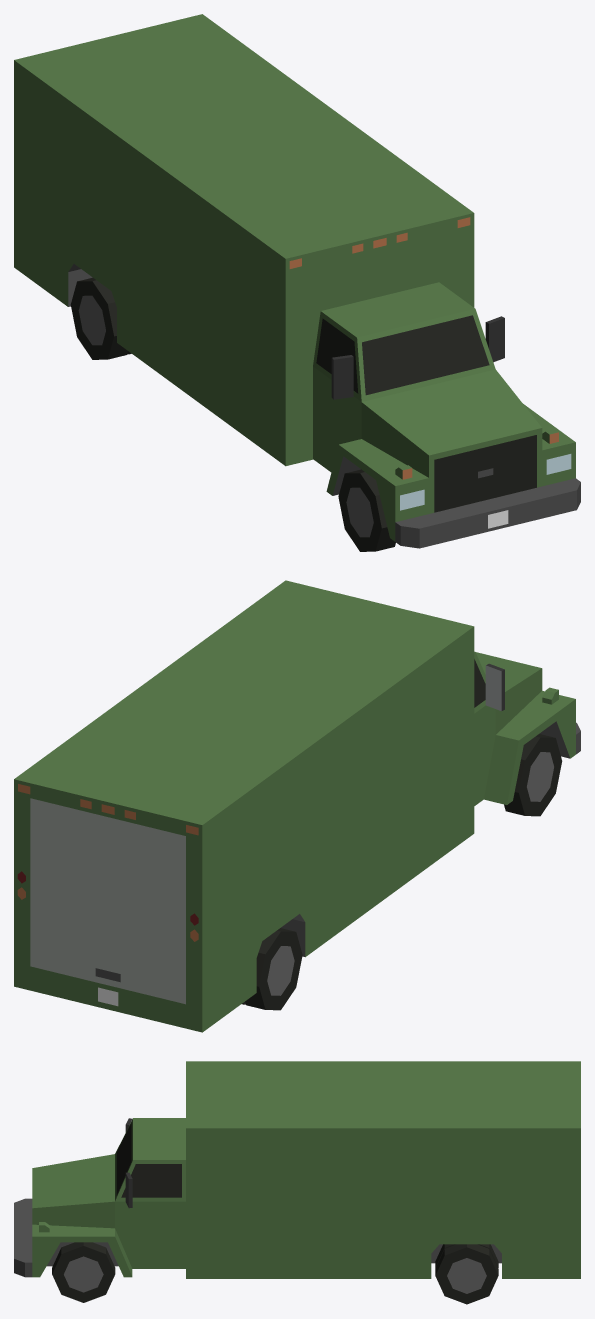
The model's file is Veh_Truck_01_Green.glb.
3 renders of one model, top to bottom at view 1: azimuth 30°, elevation 25°; view 2: azimuth 150°, elevation 25°; view 3: azimuth 270°, elevation 25°, orthographic. The views are drawn at different scales.
Parts seen in each view (by area): view 1: Truck_01_Green, Wheel_RR, Wheel_FR; view 2: Truck_01_Green, Wheel_RR, Wheel_FR; view 3: Truck_01_Green, Wheel_RL, Wheel_FL.
Boxes of the visible parts, box(x1,y1,x2,y2) form: Truck_01_Green: box(14, 14, 580, 548); Wheel_RR: box(70, 277, 131, 359); Wheel_FR: box(338, 469, 395, 551); Truck_01_Green: box(14, 580, 580, 1032); Wheel_RR: box(242, 928, 302, 1010); Wheel_FR: box(504, 734, 562, 816); Truck_01_Green: box(14, 1061, 580, 1278); Wheel_RL: box(435, 1244, 498, 1304); Wheel_FL: box(52, 1242, 115, 1302).
Size of the model in its own units: 1.35 by 1.66 by 4.85.
1 material, 1 textured.
